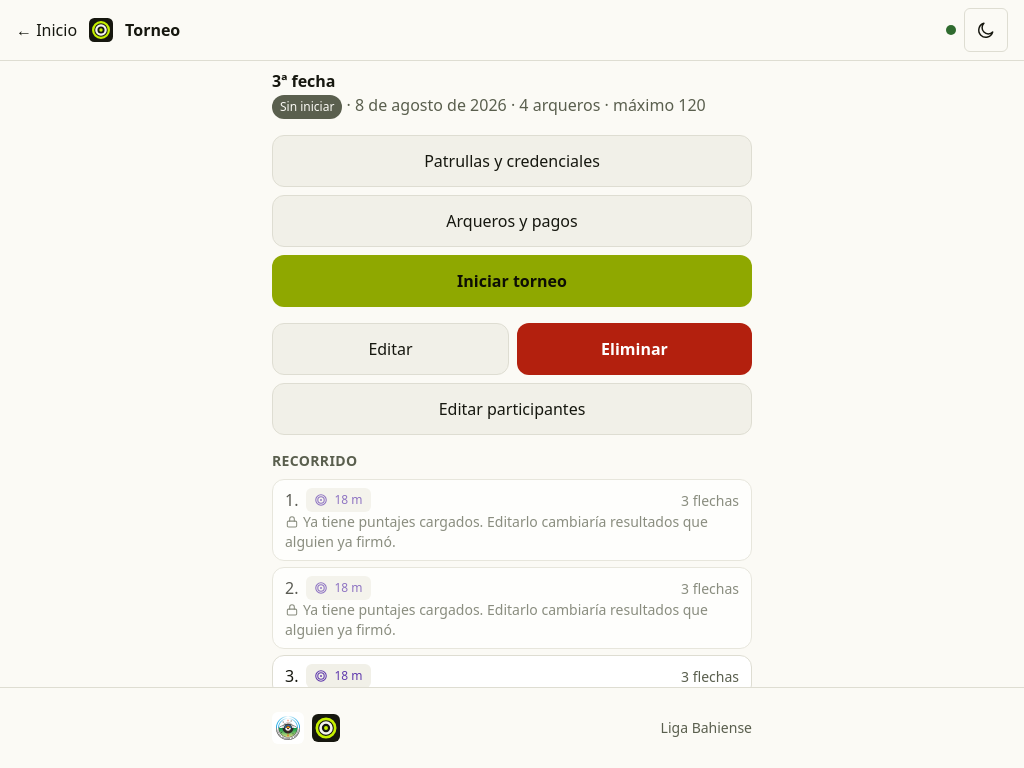
Scenario: editar y eliminar el torneo › el primer toque en Eliminar NO borra: avisa qué se va a perder
The image size is (1024, 768).
Click the button "Eliminar".
click(634, 349)  # box [517,323,752,375]
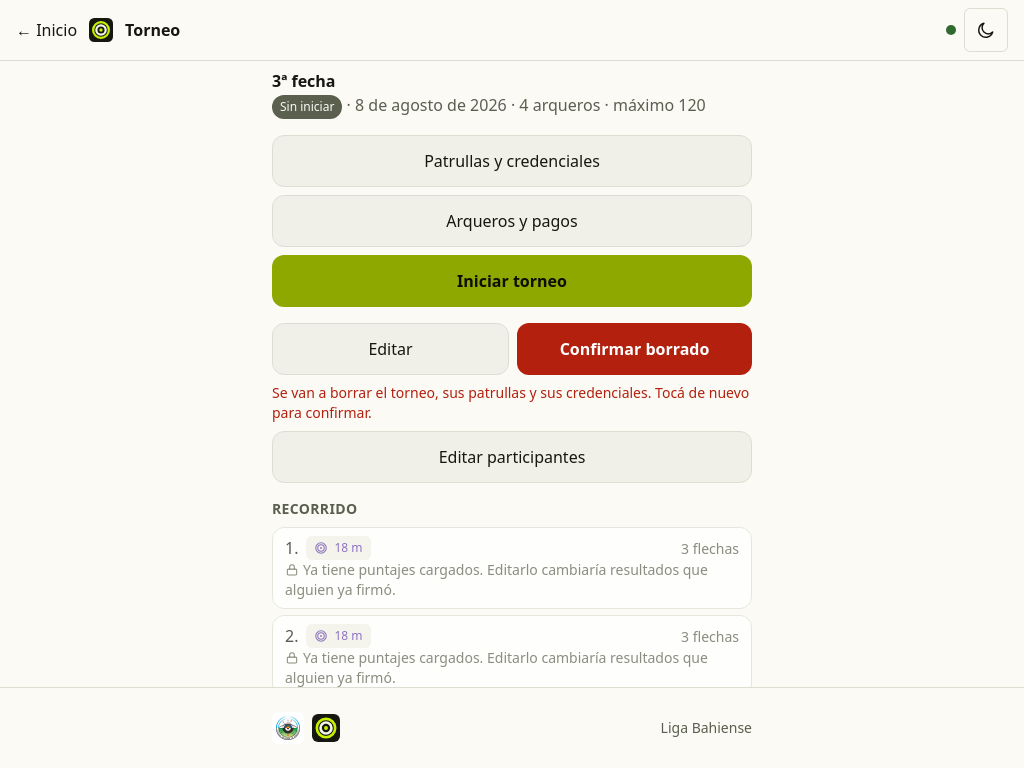
Expected: the text "Tocá de nuevo para confirmar" is shown, [272,383,749,422]
Expected: the button "Confirmar borrado" is shown, [517,323,752,375]
